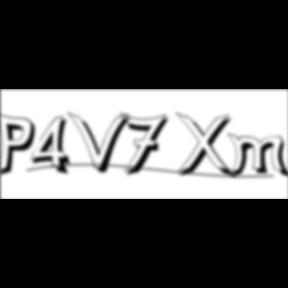4: (30, 115, 78, 179)
7: (119, 111, 174, 179)
P: (0, 110, 42, 180)
V: (67, 110, 134, 176)
X: (175, 112, 239, 182)
